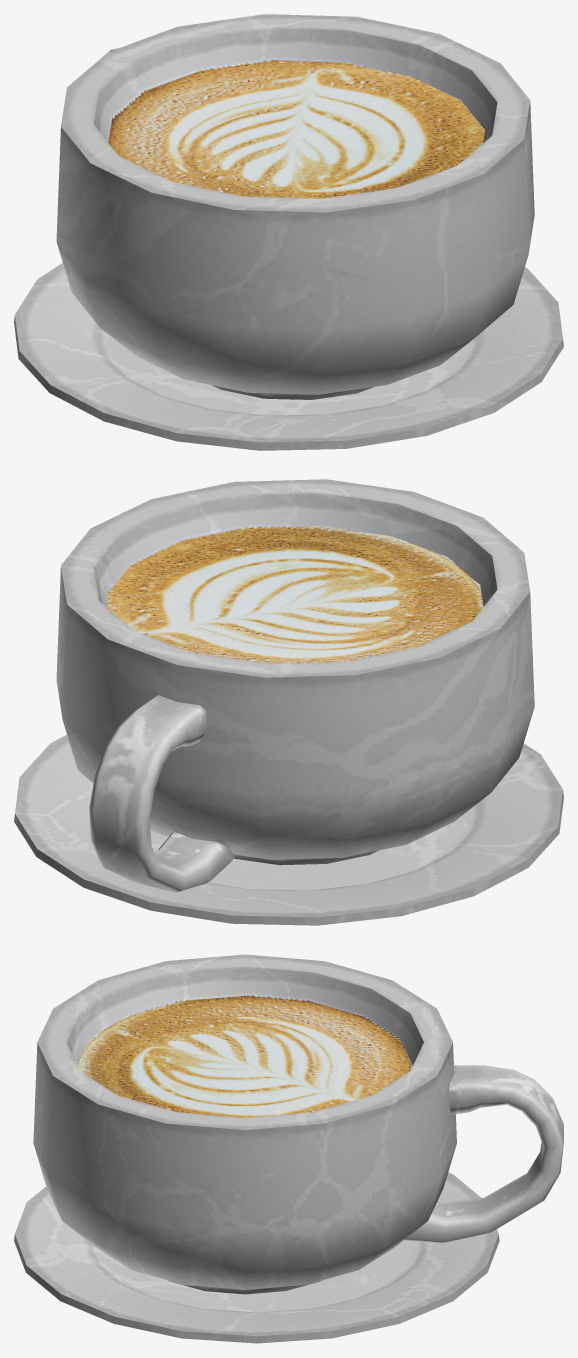
Rendered from Bowl.fbx.
3 renders of one model, top to bottom at view 1: azimuth 30°, elevation 25°; view 2: azimuth 150°, elevation 25°; view 3: azimuth 270°, elevation 25°, orthographic. The views are drawn at different scales.
Parts seen in each view (by area): view 1: Bowl_01_LOD0; view 2: Bowl_01_LOD0; view 3: Bowl_01_LOD0.
Boxes of the visible parts, x1,y1,x2,y2 form: Bowl_01_LOD0: (14, 14, 563, 450); Bowl_01_LOD0: (14, 479, 563, 925); Bowl_01_LOD0: (14, 954, 563, 1343).
Size of what is drawn, in the model's own units: 16.02 by 7.82 by 18.14.
